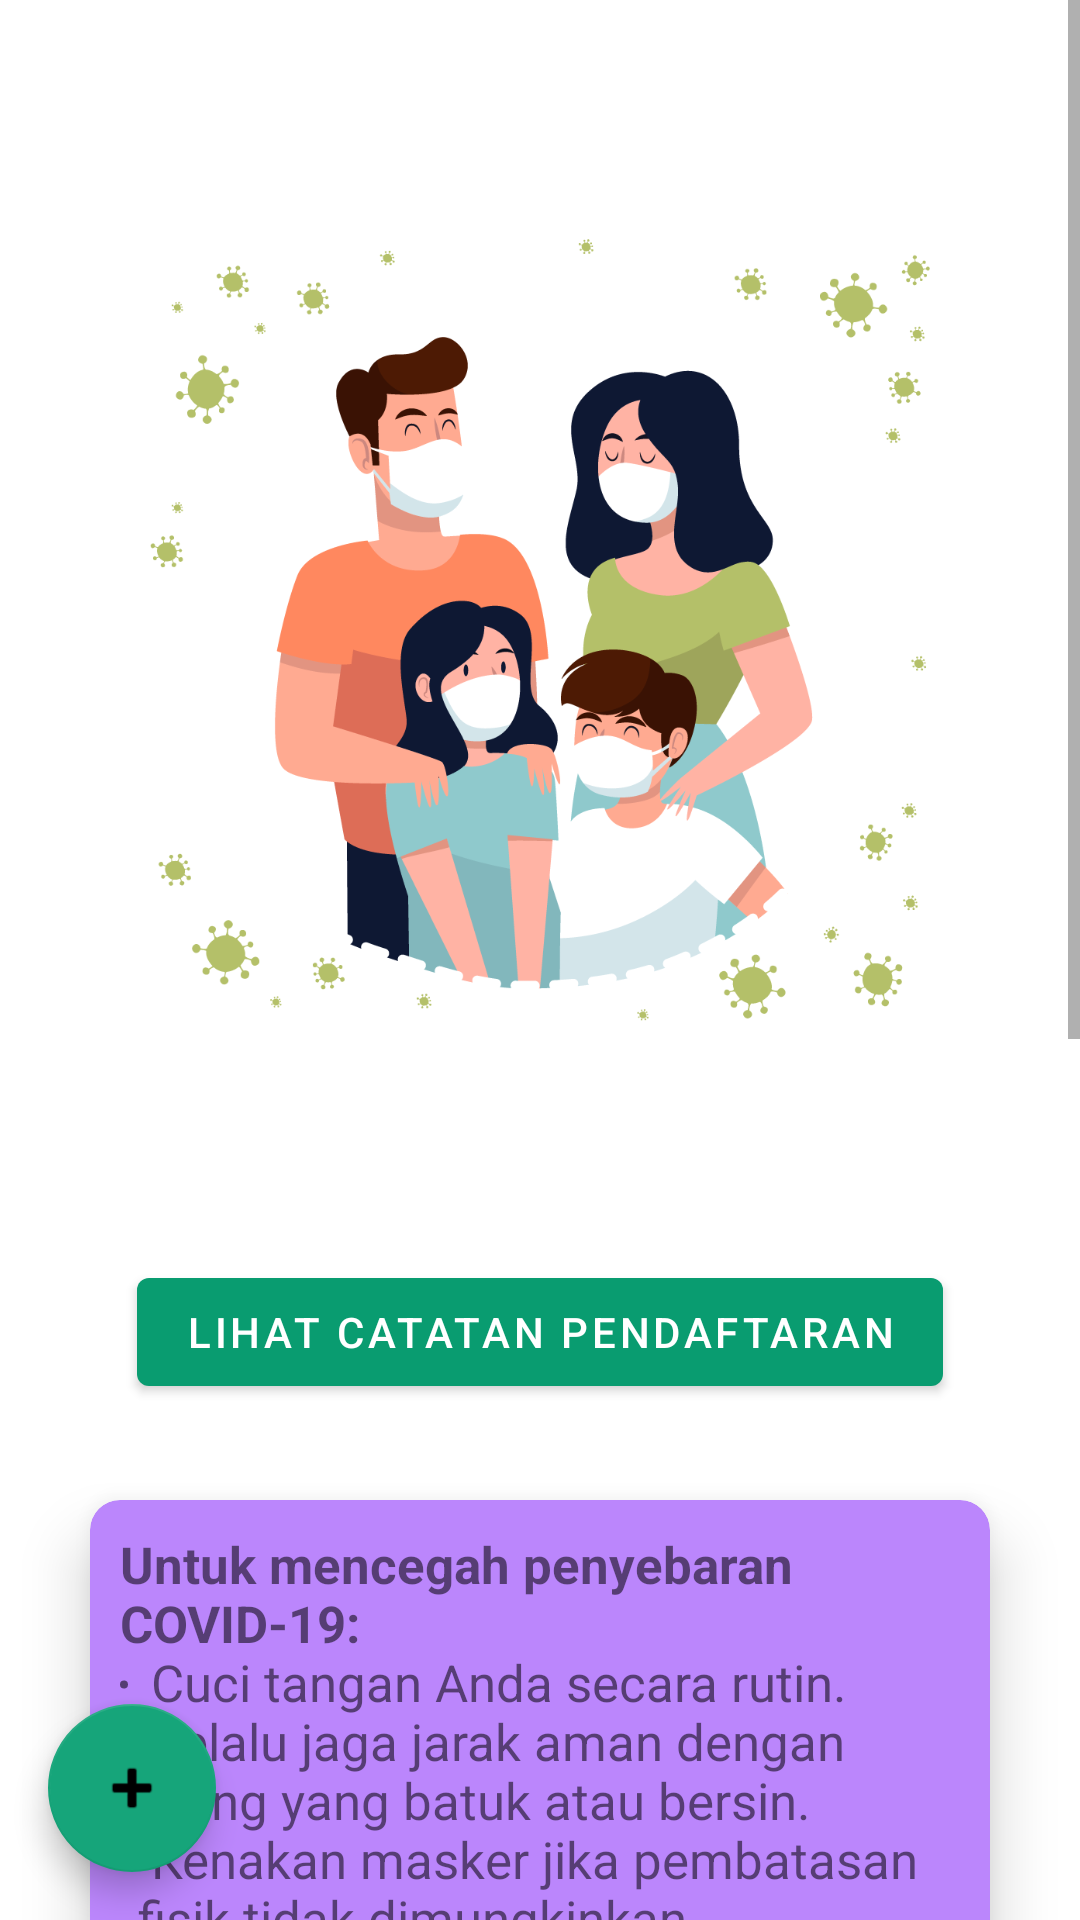

Where to tap for icons on this 1080w x 1920h app screen, as (x,y):
add: (132,1788)
